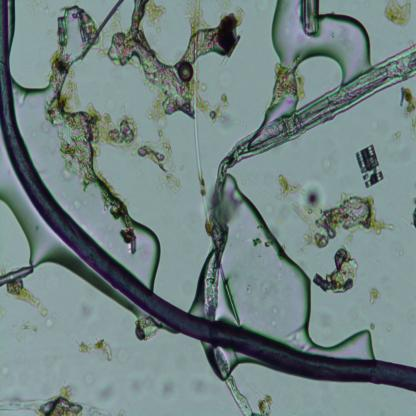Air bubble: (22, 80, 178, 287), (225, 170, 315, 338), (263, 0, 370, 98), (315, 322, 377, 360)
Background material: (108, 0, 200, 114), (88, 106, 184, 196), (275, 176, 396, 247), (42, 60, 93, 184), (184, 7, 250, 67), (48, 3, 104, 61), (0, 267, 47, 321), (311, 247, 359, 298), (200, 83, 233, 128), (73, 336, 115, 364), (400, 85, 416, 136), (384, 0, 413, 28), (145, 0, 168, 35), (135, 316, 160, 344), (94, 378, 119, 401), (161, 377, 180, 403), (78, 303, 98, 322), (81, 366, 95, 390), (253, 235, 272, 250), (18, 323, 39, 336), (368, 287, 382, 305), (410, 199, 416, 230)
Cotton: (204, 45, 416, 316), (0, 396, 111, 415), (225, 373, 270, 415)
Diatom: (354, 143, 384, 190), (178, 60, 194, 83)
Glass filter fibre: (192, 61, 212, 226), (220, 264, 241, 325)
Microfibre: (0, 1, 416, 392)
